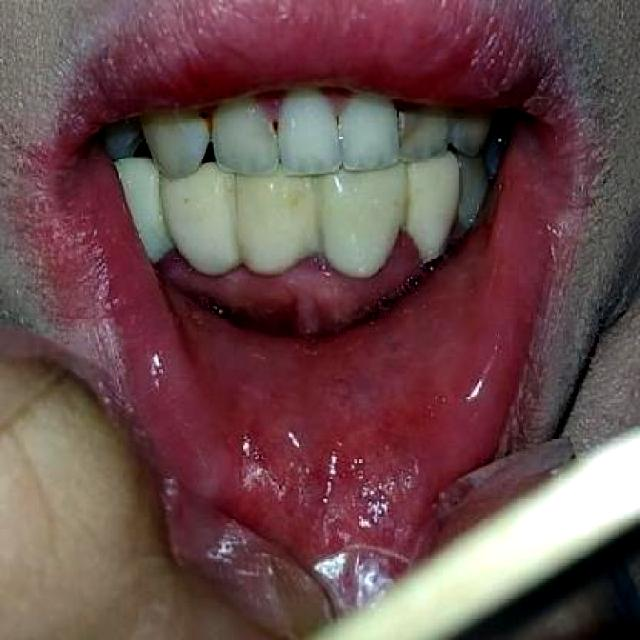Plaque: (184, 243, 419, 316)
